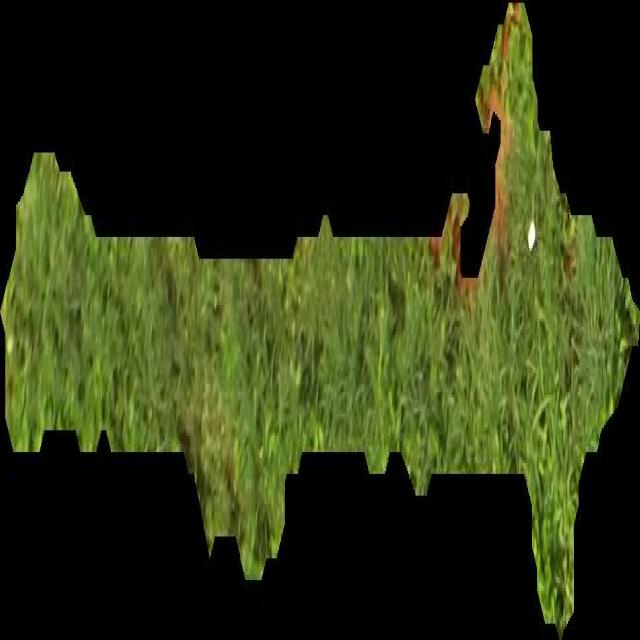Weed: (0, 3, 640, 640)
